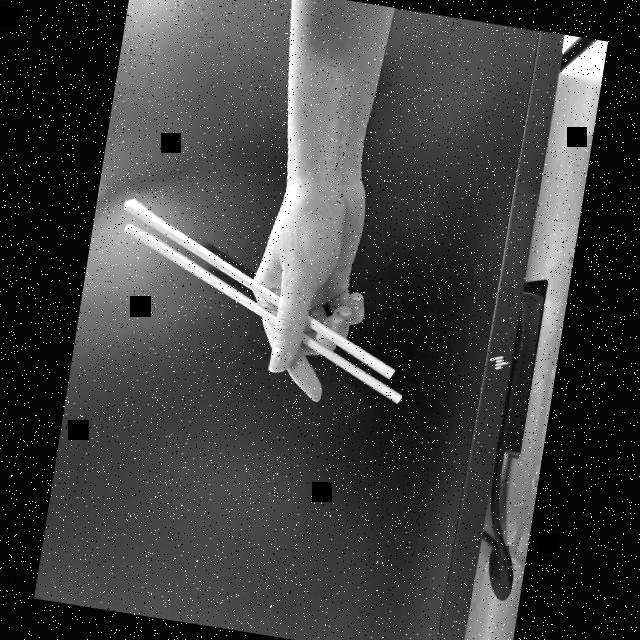stick: (95, 190, 428, 407)
